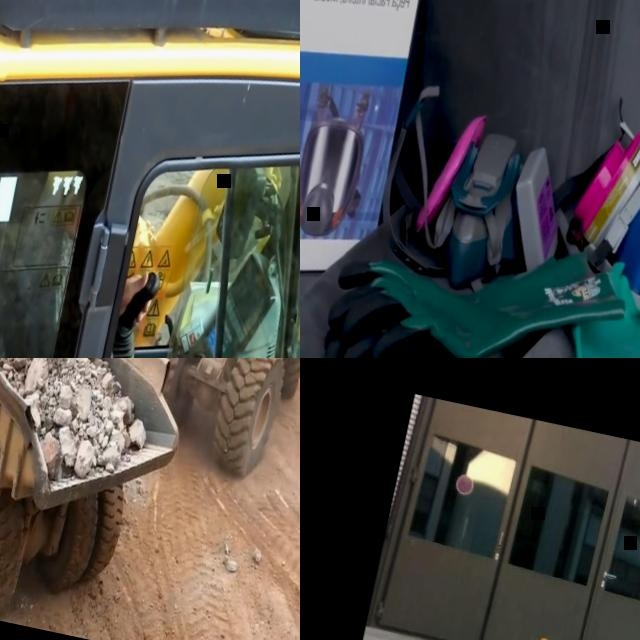Mask: (401, 101, 584, 306), (556, 118, 640, 315)
Person: (4, 170, 250, 358)
machinery: (0, 0, 300, 358), (94, 0, 300, 358), (0, 358, 218, 640), (58, 358, 300, 490)
